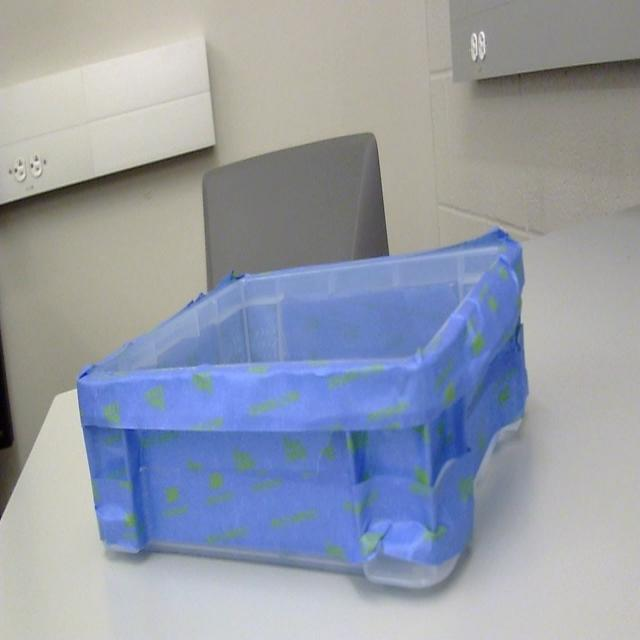bucket: (76, 232, 529, 596)
